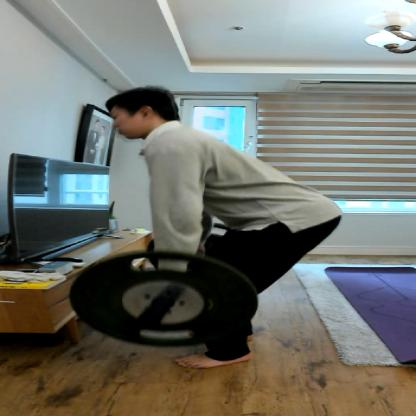Barbell: (53, 244, 269, 356)
